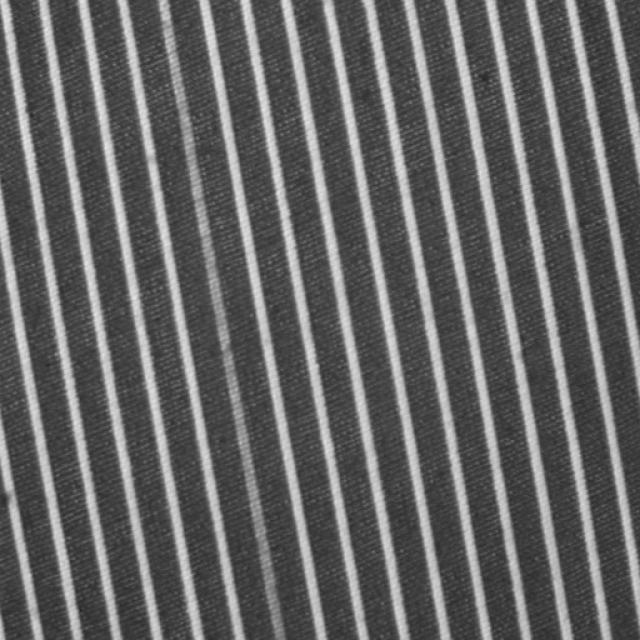Stain-Defect: (159, 0, 326, 639)
